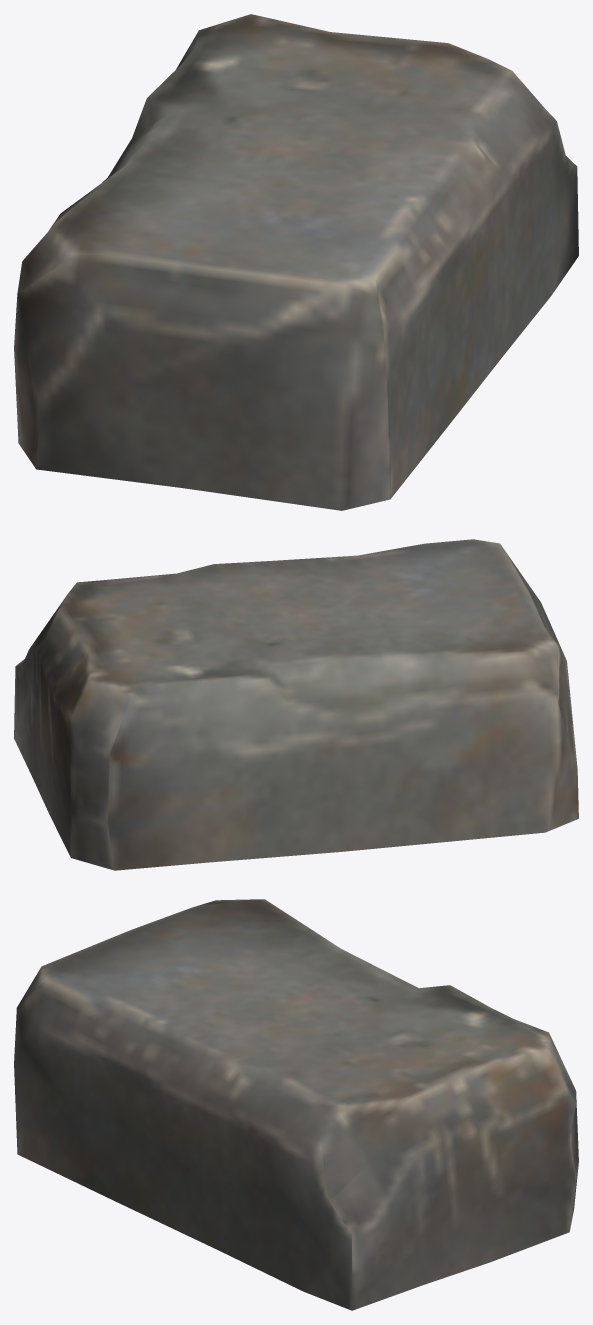
The model's file is Rock_A2.fbx.
3 renders of one model, top to bottom at view 1: azimuth 30°, elevation 25°; view 2: azimuth 150°, elevation 25°; view 3: azimuth 270°, elevation 25°, orthographic. The views are drawn at different scales.
Parts seen in each view (by area): view 1: Rock_A2__18_; view 2: Rock_A2__18_; view 3: Rock_A2__18_.
Part boxes in pixels (x1,y1,x2,y2): Rock_A2__18_: (14,14,578,510); Rock_A2__18_: (14,539,578,870); Rock_A2__18_: (14,899,578,1310).
Size of the model in its own units: 0.4136 by 0.1361 by 0.3886.
1 material, 1 textured.
